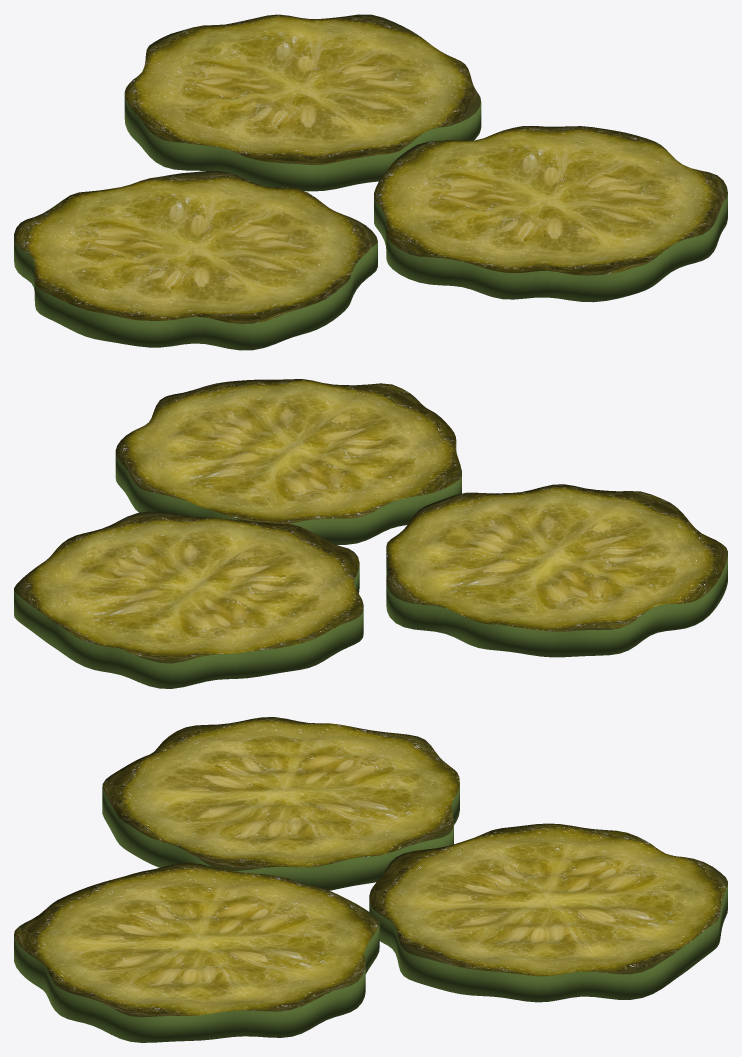
Rendered from pickle.glb.
3 renders of one model, top to bottom at view 1: azimuth 30°, elevation 25°; view 2: azimuth 150°, elevation 25°; view 3: azimuth 270°, elevation 25°, orthographic. The views are drawn at different scales.
Parts seen in each view (by area): view 1: Dill pickle coin 1, Dill pickle coin 2, Dill pickle coin 3; view 2: Dill pickle coin 3, Dill pickle coin 1, Dill pickle coin 2; view 3: Dill pickle coin 2, Dill pickle coin 3, Dill pickle coin 1.
Boxes of the visible parts, bbox=[...] form: Dill pickle coin 1: bbox=[14, 171, 377, 350]; Dill pickle coin 2: bbox=[374, 126, 727, 302]; Dill pickle coin 3: bbox=[124, 14, 481, 191]; Dill pickle coin 3: bbox=[14, 511, 363, 688]; Dill pickle coin 1: bbox=[386, 484, 727, 657]; Dill pickle coin 2: bbox=[115, 379, 461, 544]; Dill pickle coin 2: bbox=[14, 862, 379, 1042]; Dill pickle coin 3: bbox=[369, 823, 727, 1002]; Dill pickle coin 1: bbox=[102, 717, 459, 890].
Bounding box in the file's own units: 1.59 × 0.0991 × 1.58.
2 materials, 1 textured.
